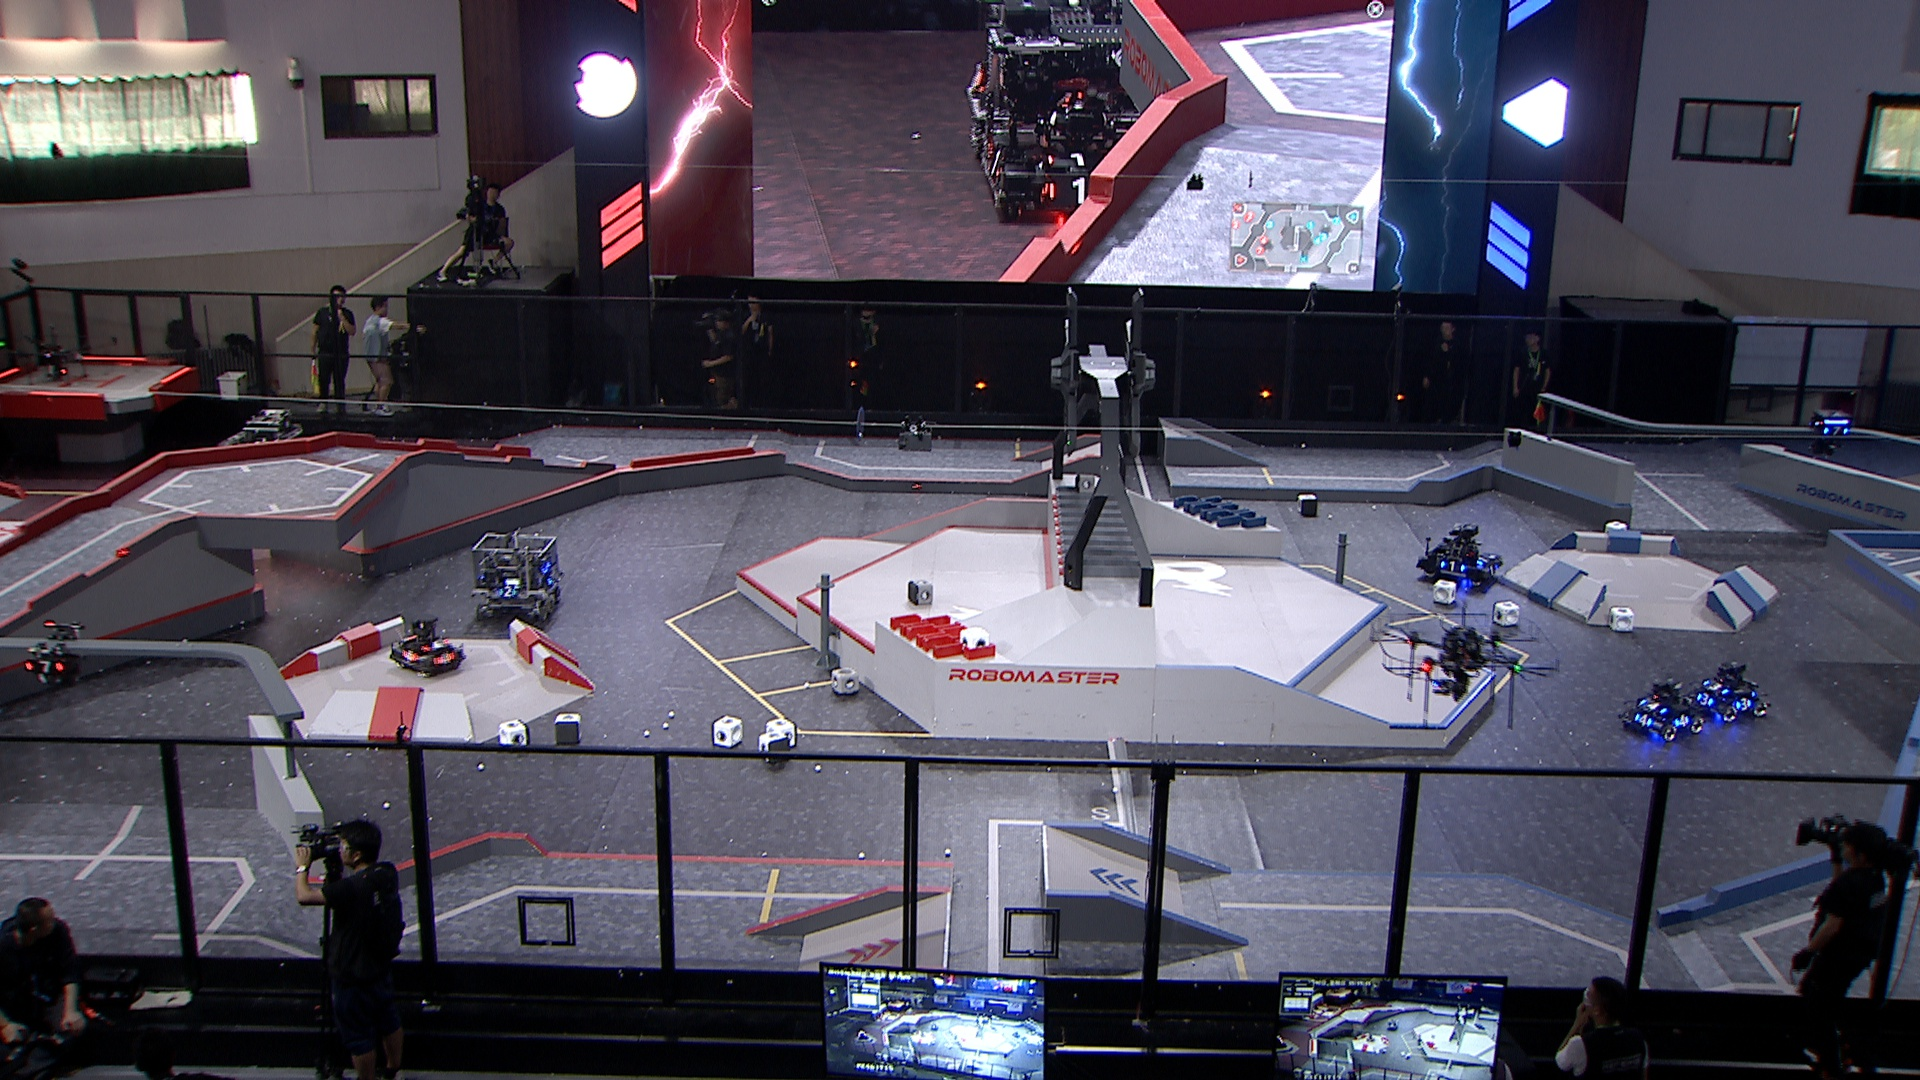armor: (24, 657, 65, 675), (1638, 698, 1667, 713), (1437, 559, 1468, 574), (1702, 678, 1730, 694), (1633, 711, 1655, 728), (1822, 425, 1850, 438), (398, 647, 419, 665), (419, 640, 452, 650), (433, 651, 456, 666), (1695, 690, 1716, 705), (1735, 698, 1754, 713), (498, 584, 517, 597), (1675, 713, 1691, 728), (1476, 553, 1490, 566), (1486, 564, 1499, 578), (543, 572, 556, 585)
car: (471, 529, 564, 624), (215, 406, 309, 485), (1414, 524, 1506, 589), (1618, 676, 1708, 741), (1685, 662, 1768, 723), (386, 615, 467, 676)
ignore: (968, 0, 1145, 219)
watcher: (21, 621, 83, 684), (1804, 407, 1851, 456)
